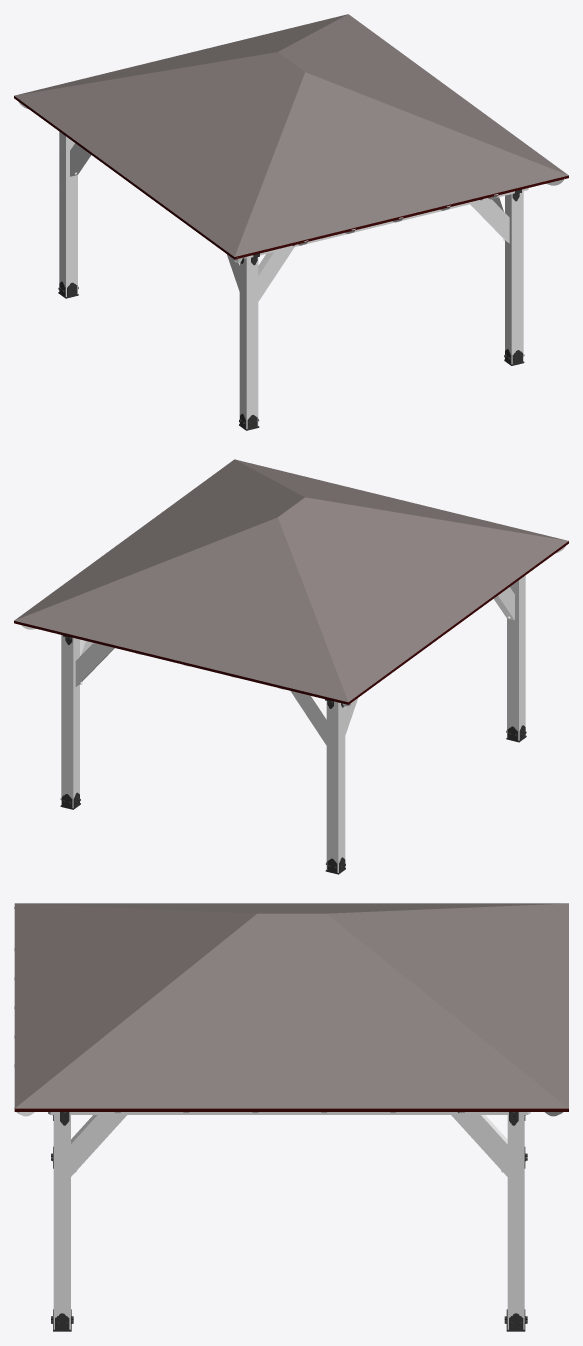
Rendered from saratoga-14x16-bullnose.obj.
3 views of the same model, one above another, from view 1: azimuth 30°, elevation 25°; view 2: azimuth 150°, elevation 25°; view 3: azimuth 270°, elevation 25° (orthographic). The views are drawn at different scales.
Parts seen in each view (by area): view 1: Mesh228 shingles roof Group1 Model, Mesh179 Group73 Component_92_4 Group2 Group1 Model, Mesh81 Group45 Component_92_2 Group2 Group1 Model, Mesh130 Group59 Component_92_3 Group2 Group1 Model, Mesh229 roof Group1 Model, Mesh219 Component_91_7 Component_92_4 Group2 Group1 Model, Mesh121 Component_91_3 Component_92_2 Group2 Group1 Model, Mesh77 Component_135_1 Group2 Group1 Model; view 2: Mesh228 shingles roof Group1 Model, Mesh130 Group59 Component_92_3 Group2 Group1 Model, Mesh1 Group4 Component_92_1 Group3 Group2 Group1 Model, Mesh179 Group73 Component_92_4 Group2 Group1 Model, Mesh229 roof Group1 Model, Mesh170 Component_91_5 Component_92_3 Group2 Group1 Model, Mesh41 Component_91_1 Component_92_1 Group3 Group2 Group1 Model; view 3: Mesh228 shingles roof Group1 Model, Mesh81 Group45 Component_92_2 Group2 Group1 Model, Mesh1 Group4 Component_92_1 Group3 Group2 Group1 Model, Mesh229 roof Group1 Model, Mesh45 Component_91_2 Component_92_1 Group3 Group2 Group1 Model, Mesh125 Component_91_4 Component_92_2 Group2 Group1 Model, Mesh80 Component_134_2 Group2 Group1 Model.
Boxes of the visible parts, box(x1,y1,x2,y2) form: Mesh228 shingles roof Group1 Model: box(14, 14, 568, 256); Mesh179 Group73 Component_92_4 Group2 Group1 Model: box(239, 257, 258, 429); Mesh81 Group45 Component_92_2 Group2 Group1 Model: box(505, 191, 523, 364); Mesh130 Group59 Component_92_3 Group2 Group1 Model: box(59, 132, 77, 296); Mesh229 roof Group1 Model: box(14, 96, 568, 259); Mesh219 Component_91_7 Component_92_4 Group2 Group1 Model: box(258, 247, 294, 301); Mesh121 Component_91_3 Component_92_2 Group2 Group1 Model: box(470, 199, 509, 243); Mesh77 Component_135_1 Group2 Group1 Model: box(243, 188, 528, 258); Mesh228 shingles roof Group1 Model: box(14, 459, 568, 702); Mesh130 Group59 Component_92_3 Group2 Group1 Model: box(326, 701, 345, 872); Mesh1 Group4 Component_92_1 Group3 Group2 Group1 Model: box(61, 635, 79, 807); Mesh179 Group73 Component_92_4 Group2 Group1 Model: box(507, 575, 525, 740); Mesh229 roof Group1 Model: box(14, 541, 568, 704); Mesh170 Component_91_5 Component_92_3 Group2 Group1 Model: box(290, 691, 326, 745); Mesh41 Component_91_1 Component_92_1 Group3 Group2 Group1 Model: box(75, 643, 114, 686); Mesh228 shingles roof Group1 Model: box(14, 903, 568, 1108); Mesh81 Group45 Component_92_2 Group2 Group1 Model: box(53, 1115, 70, 1329); Mesh1 Group4 Component_92_1 Group3 Group2 Group1 Model: box(507, 1115, 524, 1329); Mesh229 roof Group1 Model: box(14, 1108, 568, 1111); Mesh45 Component_91_2 Component_92_1 Group3 Group2 Group1 Model: box(451, 1115, 507, 1176); Mesh125 Component_91_4 Component_92_2 Group2 Group1 Model: box(71, 1115, 126, 1176); Mesh80 Component_134_2 Group2 Group1 Model: box(59, 1112, 518, 1114).
Bounding box in the file's own units: 169 × 128 × 193.
